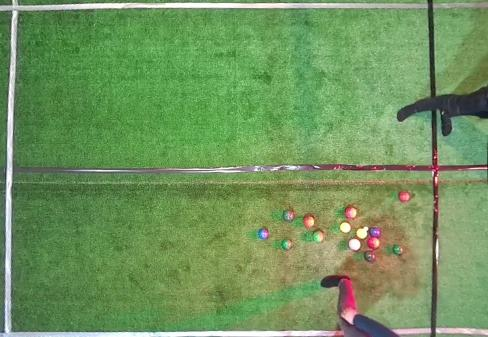blue: (258, 228, 268, 240), (370, 228, 381, 237)
green: (312, 230, 324, 242), (364, 251, 376, 262), (283, 210, 293, 221), (392, 245, 403, 255), (282, 239, 292, 249)
red: (367, 237, 380, 249), (303, 215, 315, 228), (349, 239, 361, 251), (345, 207, 357, 219), (398, 191, 410, 202)
vline: (430, 111, 487, 336), (0, 0, 20, 336), (427, 0, 487, 97)
white: (364, 226, 369, 231)
yellow: (356, 228, 367, 239), (340, 222, 351, 233)
